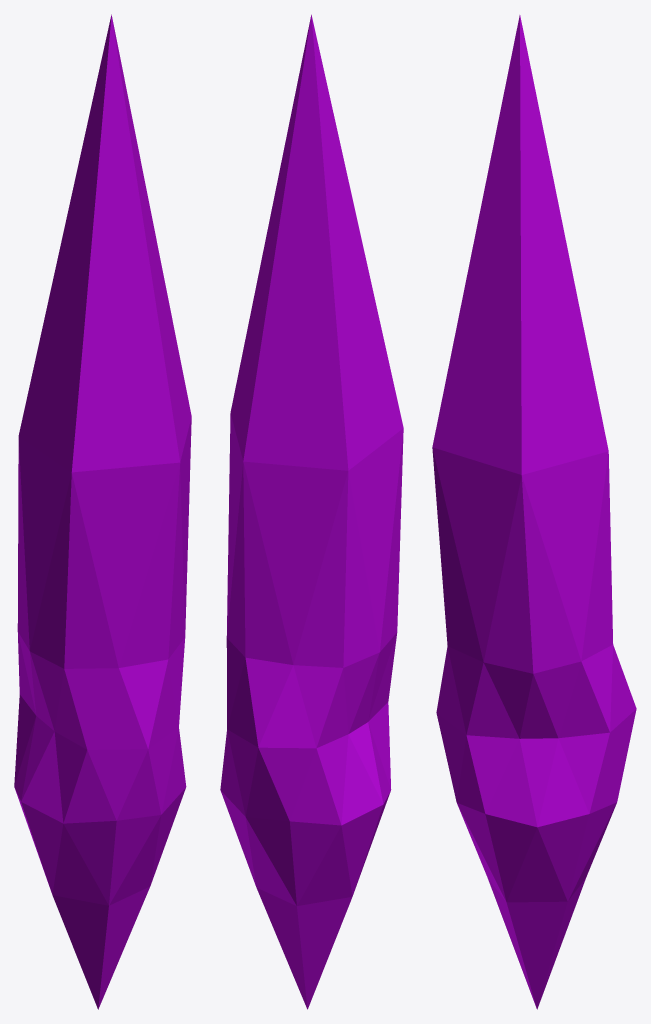
Rendered from SmallSharpMesh3.fbx.
3 renders of one model, left to right at view 1: azimuth 30°, elevation 25°; view 2: azimuth 150°, elevation 25°; view 3: azimuth 270°, elevation 25°, orthographic.
Parts seen in each view (by area): view 1: SharpMesh3.001; view 2: SharpMesh3.001; view 3: SharpMesh3.001.
Part boxes in pixels (left/top/right/bottom): SharpMesh3.001: left=14, top=14, right=191, bottom=1009; SharpMesh3.001: left=220, top=14, right=403, bottom=1009; SharpMesh3.001: left=432, top=15, right=636, bottom=1009.
Bounding box in the file's own units: 47.41 × 279 × 51.68.
